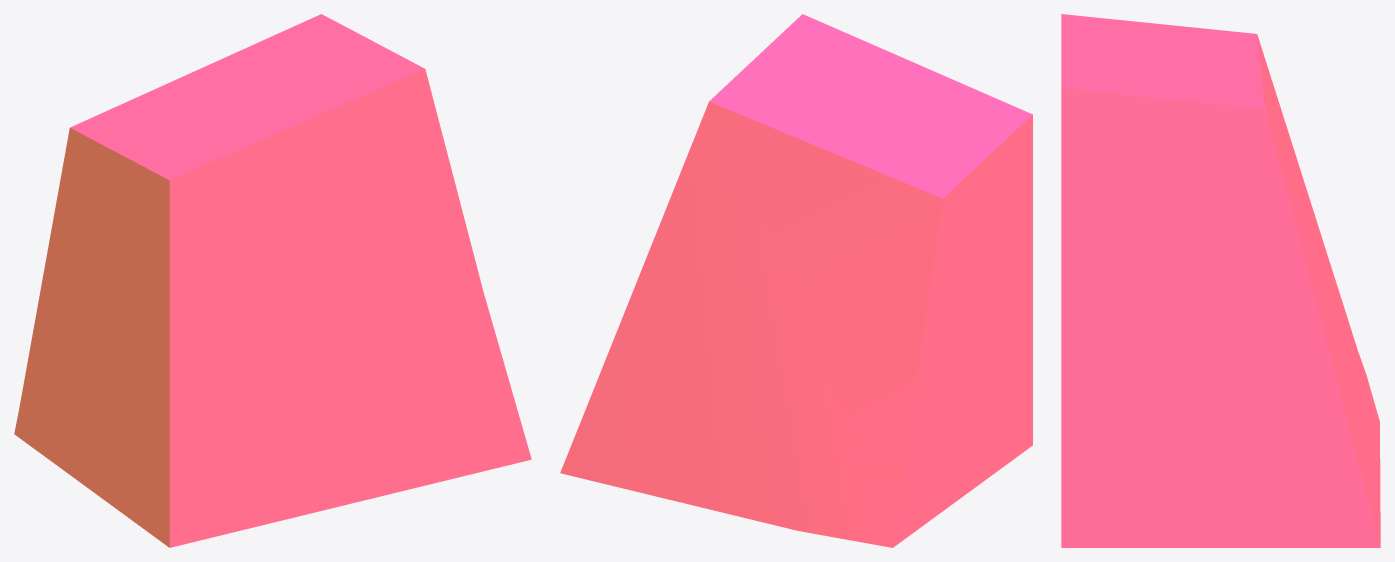
Rendered from chunk-p4.fbx.
3 renders of one model, left to right at view 1: azimuth 30°, elevation 25°; view 2: azimuth 150°, elevation 25°; view 3: azimuth 270°, elevation 25°, orthographic. The views are drawn at different scales.
Visible parts, largest first — view 1: pCube15; view 2: pCube15; view 3: pCube15.
Part boxes in pixels (left/top/right/bottom): pCube15: left=14, top=14, right=531, bottom=547; pCube15: left=560, top=14, right=1032, bottom=547; pCube15: left=1061, top=14, right=1380, bottom=547.
Bounding box in the file's own units: 4.29 × 4.71 × 3.34.
